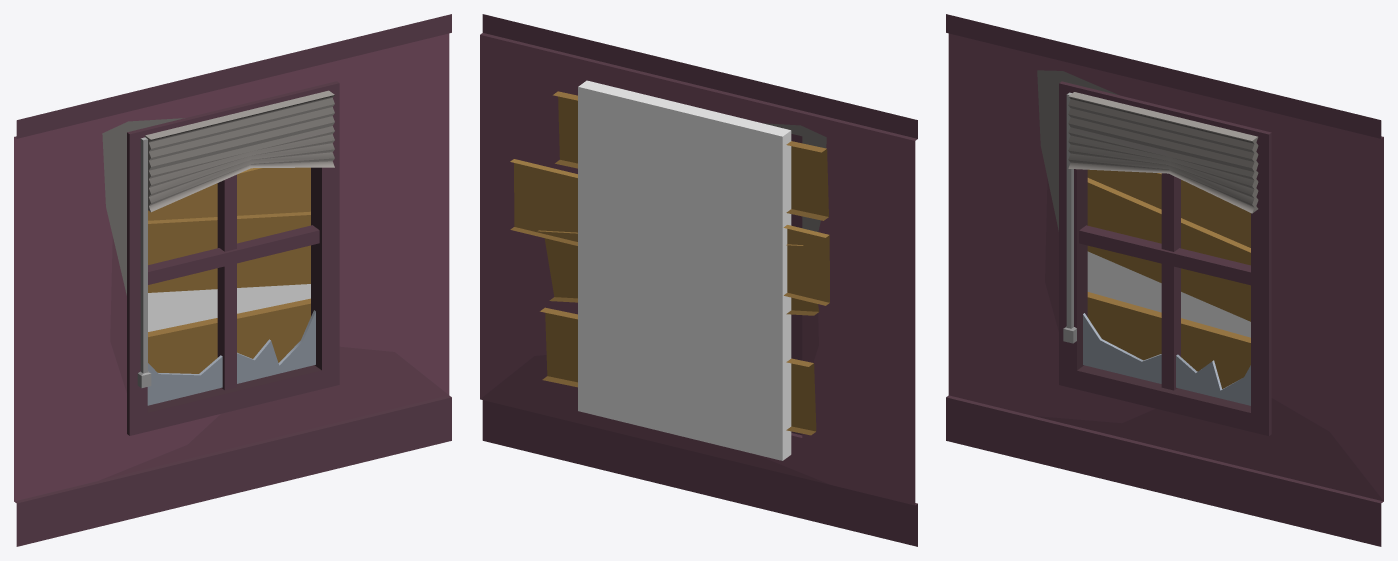
Rendered from AI_Env_Wall_Pink_Window_01_Blinds.fbx.
The picture shows the model from 3 angles, left to right: view 1: azimuth 30°, elevation 25°; view 2: azimuth 150°, elevation 25°; view 3: azimuth 330°, elevation 25°; orthographic projection.
Parts seen in each view (by area): view 1: AI_Env_Wall_Pink_Window_01_Blinds; view 2: AI_Env_Wall_Pink_Window_01_Blinds; view 3: AI_Env_Wall_Pink_Window_01_Blinds.
Boxes of the visible parts, x1,y1,x2,y2 form: AI_Env_Wall_Pink_Window_01_Blinds: [14, 14, 451, 546]; AI_Env_Wall_Pink_Window_01_Blinds: [480, 14, 917, 546]; AI_Env_Wall_Pink_Window_01_Blinds: [946, 14, 1383, 546].
Size of the model in its own units: 5 by 4.69 by 0.5083.
